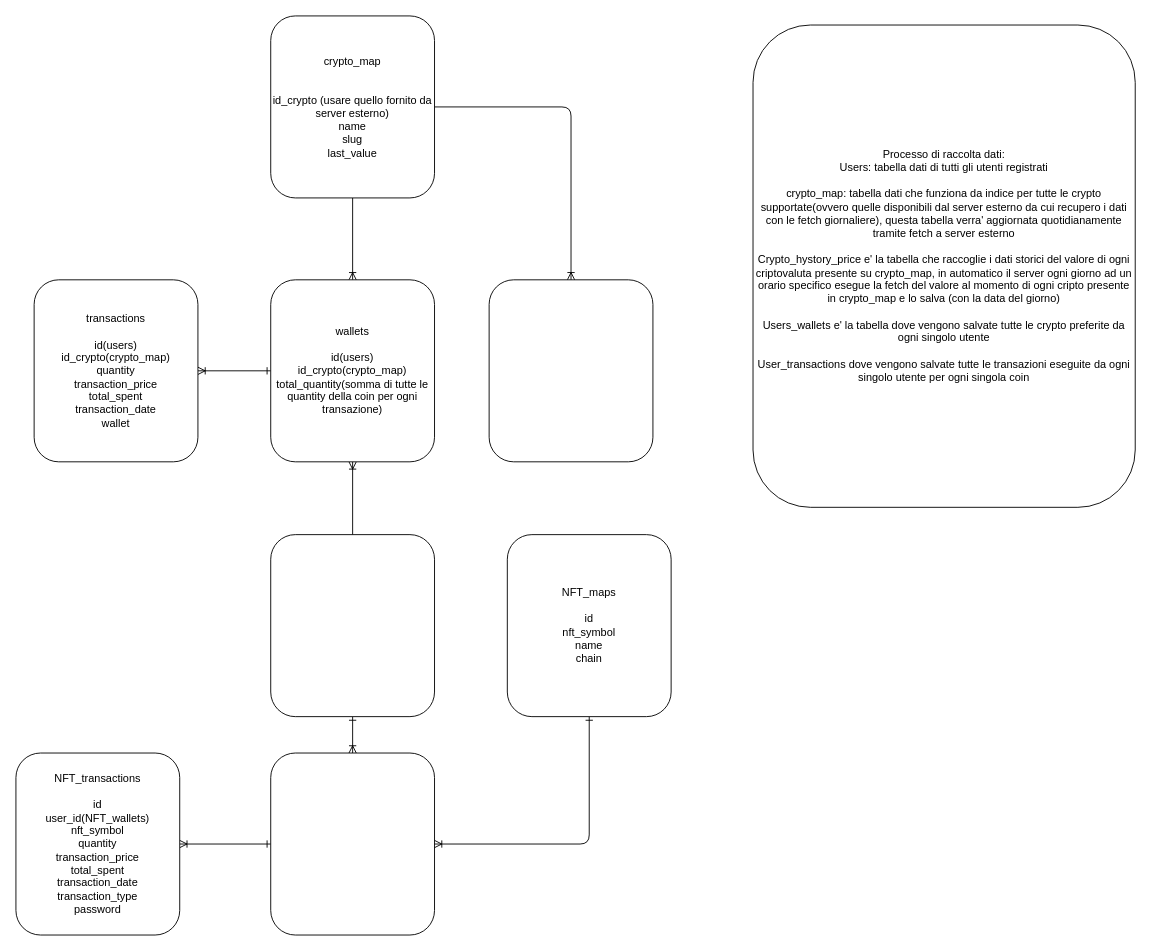
This 1151x951 diagram has some shape labels left out. Each missing label, with the centre of its shape:
"histories id_crypto(preso da crypto_map) name slug price date" goes at (570,370).
"NFT_wallets id user_id(users) nft_symbol(nft_maps) name(nft_maps)" goes at (352,843).
"users id nickname/email password" goes at (352,625).
